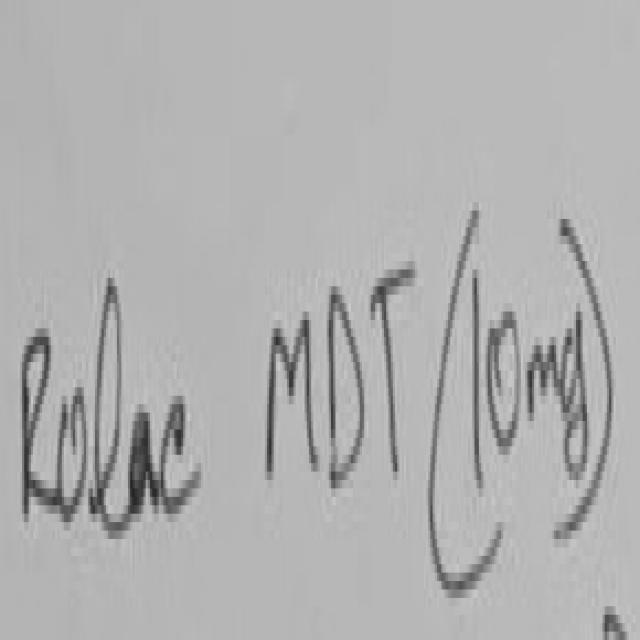0: (488, 312, 523, 451)
1: (472, 269, 483, 484)
D: (330, 290, 366, 484)
M: (267, 292, 318, 484)
R: (22, 328, 56, 527)
T: (370, 262, 420, 471)
a: (130, 413, 159, 509)
c: (158, 396, 202, 523)
g: (561, 312, 589, 487)
l: (85, 278, 130, 540)
m: (522, 330, 561, 429)
o: (57, 393, 86, 518)
